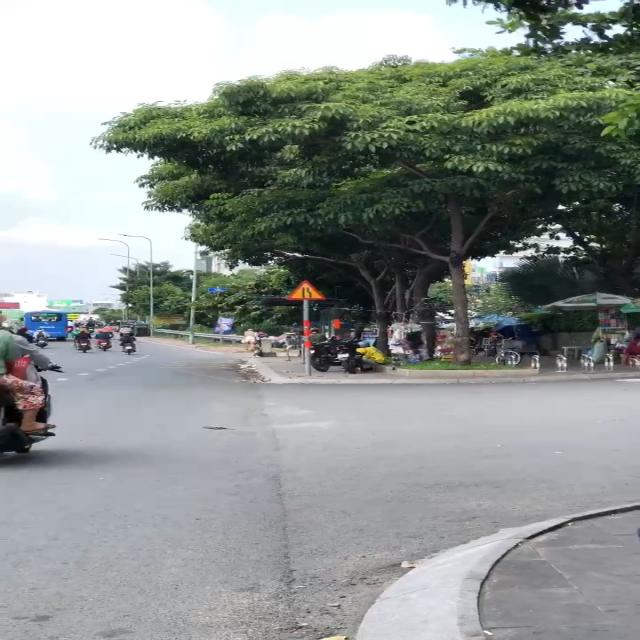Bien bao duong bi thu hep: (282, 280, 331, 302)
